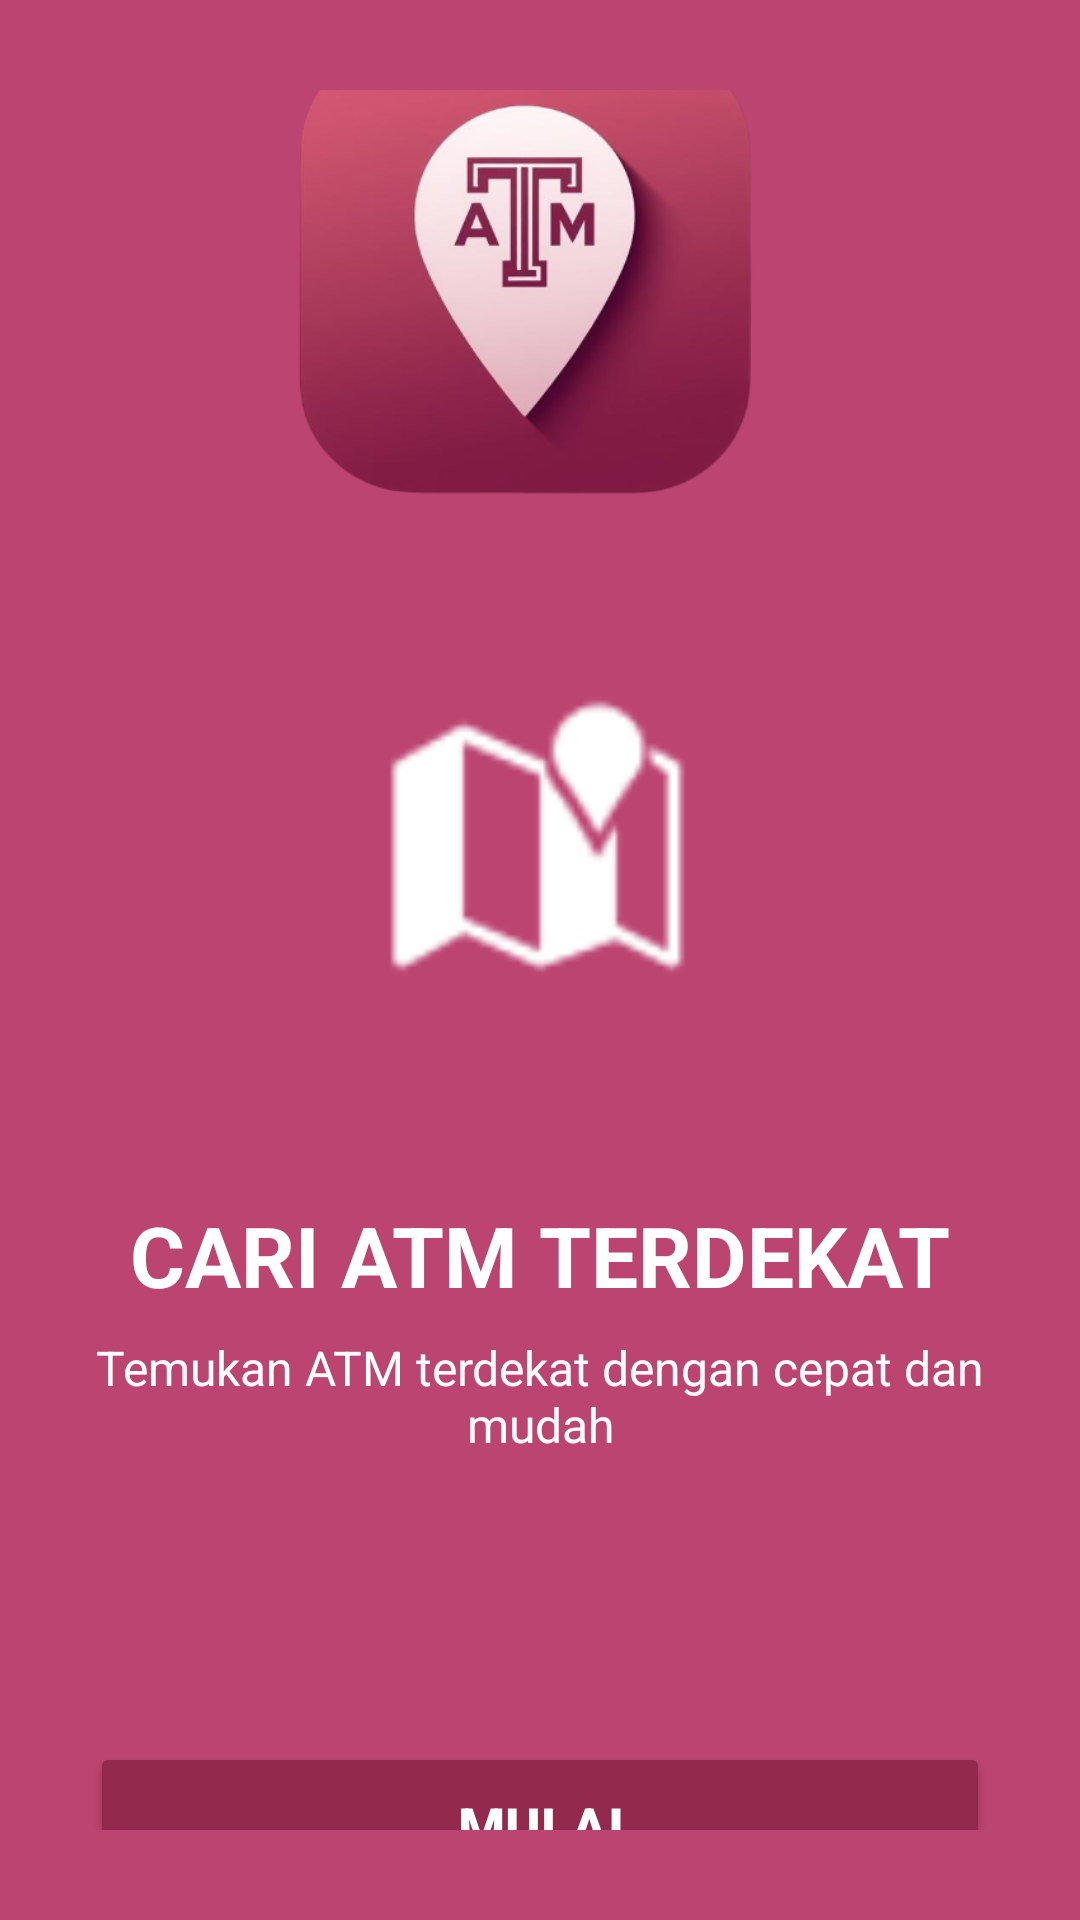

Icon click points for this 1080 x 1920 phone screenshot, format (x=x, y=y):
Ilustrasi Cari ATM: (x=537, y=836)
